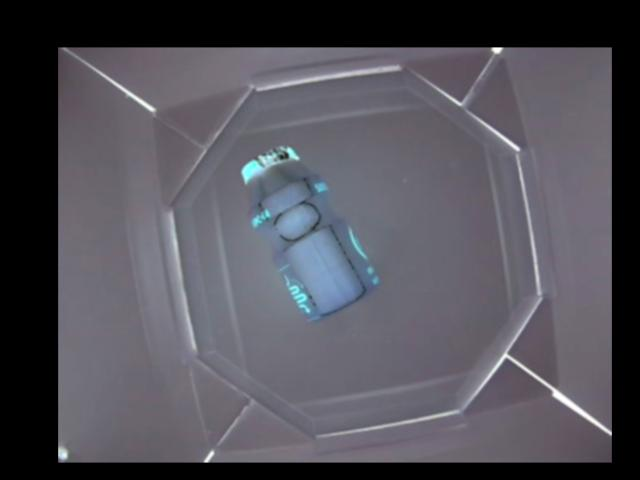Bottle: (235, 146, 379, 324)
